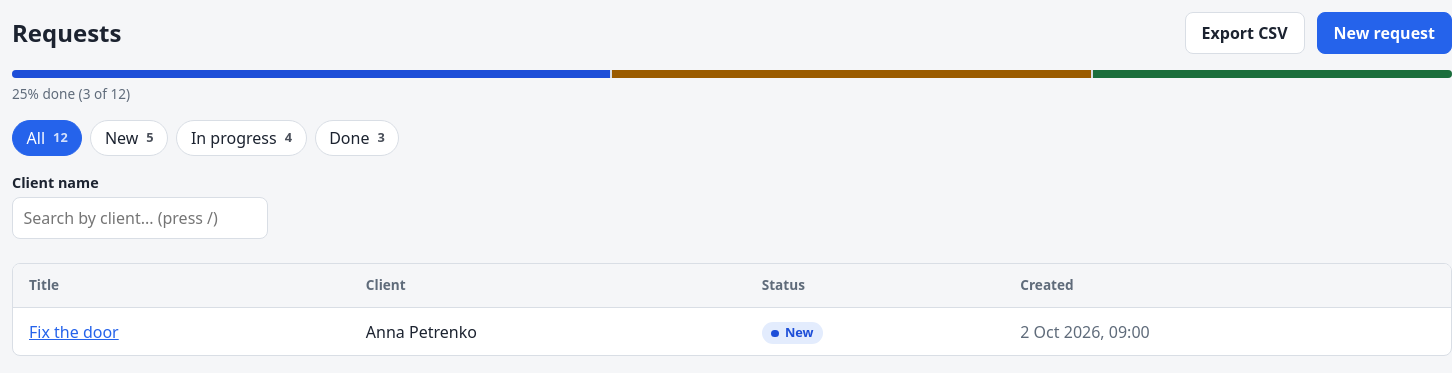
it: RequestsPage › asks the API for the chosen status
Check: the link "Fix the door" is shown, box [29,320,119,342]
Click the button "Done 3".
click(357, 138)  # box [315,120,399,156]
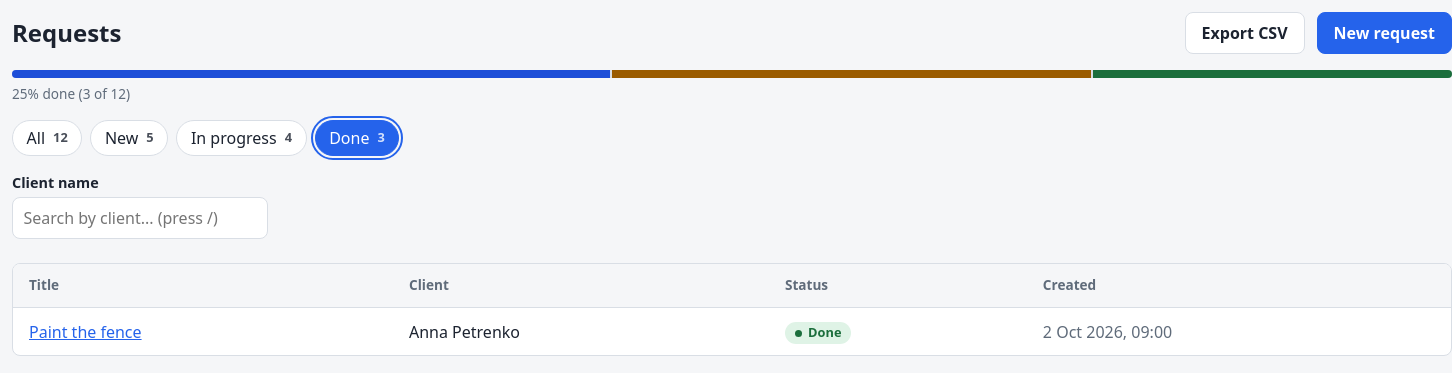
Check: the link "Paint the fence" is shown, box [29,320,142,342]
Check: the link "Fix the door" is gone
